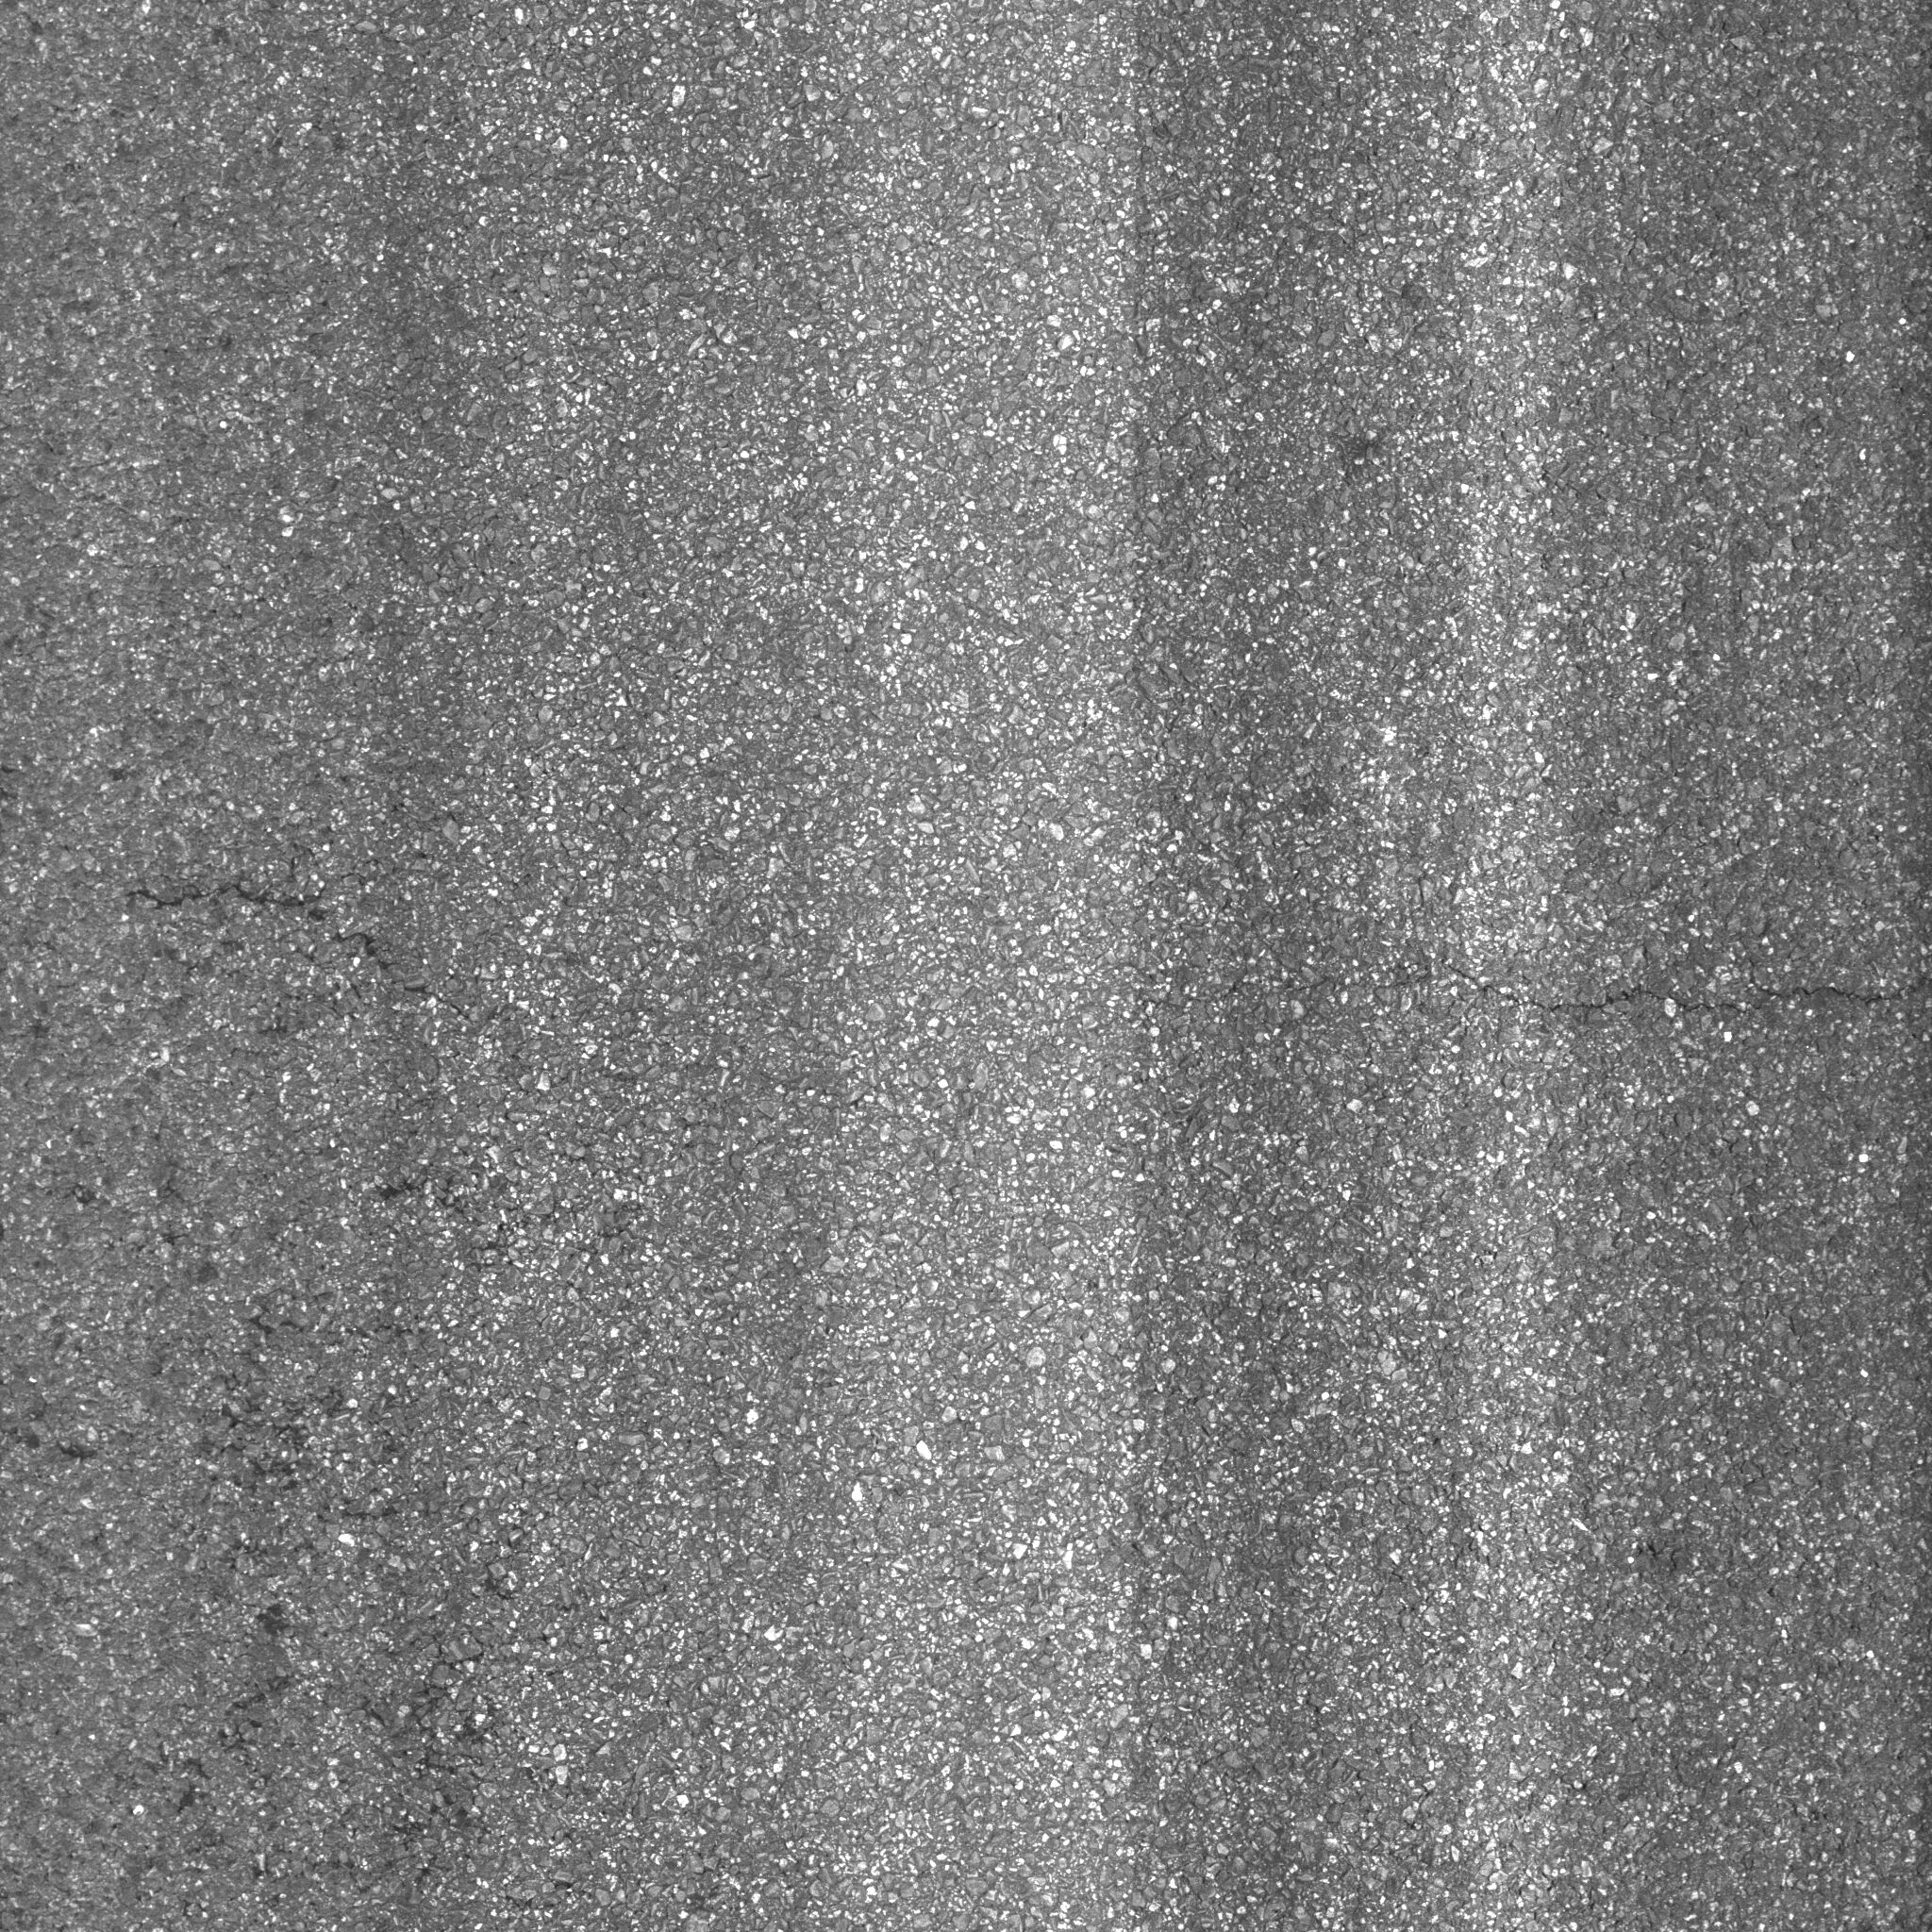transeverse: (81, 849, 548, 1047), (1320, 920, 1932, 1049)
